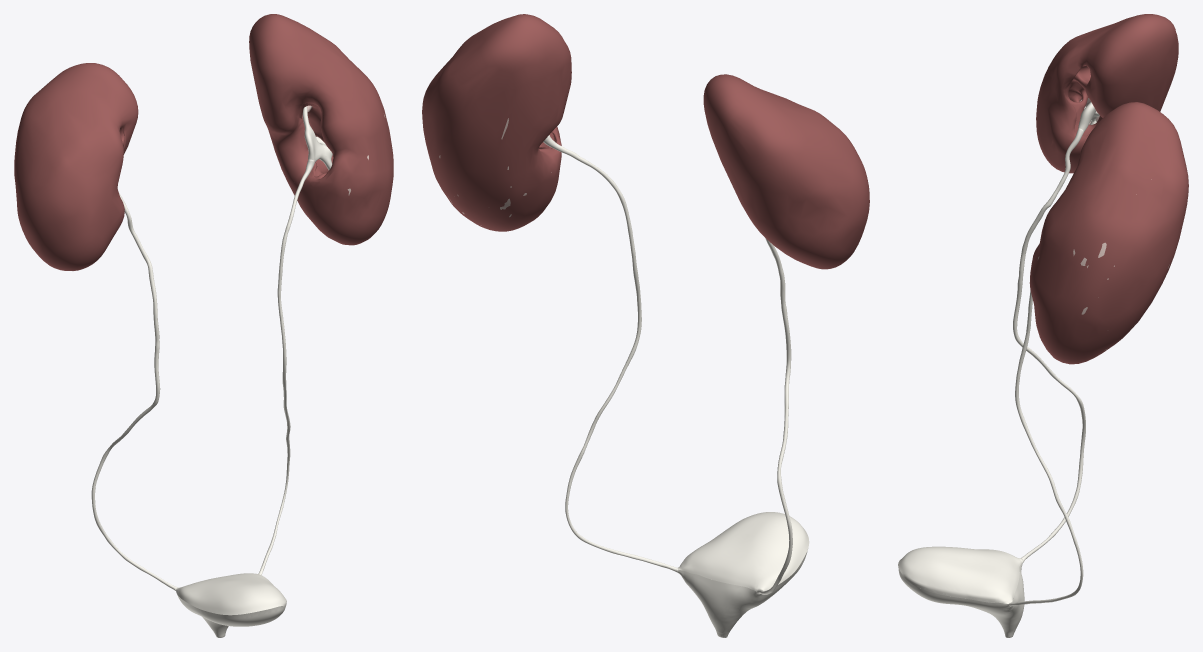
File: urinary.glb
3 renders of one model, left to right at view 1: azimuth 30°, elevation 25°; view 2: azimuth 150°, elevation 25°; view 3: azimuth 270°, elevation 25°, orthographic. The views are drawn at different scales.
Parts seen in each view (by area): view 1: kidney-capsule, kidney-capsule-2, fundus-of-urinary-bladder, right-ureter, f-left-ureter, fundus-of-urinary-bladder-2, hilum-of-kidney, renal-pelvis-2; view 2: kidney-capsule, kidney-capsule-2, fundus-of-urinary-bladder, fundus-of-urinary-bladder-2, f-left-ureter, right-ureter; view 3: kidney-capsule, kidney-capsule-2, fundus-of-urinary-bladder, right-ureter, fundus-of-urinary-bladder-2, f-left-ureter, hilum-of-kidney-2.
Part boxes in pixels (x1=…): kidney-capsule: x1=249, y1=14, x2=393, y2=245; kidney-capsule-2: x1=14, y1=63, x2=138, y2=270; fundus-of-urinary-bladder: x1=176, y1=573, x2=286, y2=615; right-ureter: x1=91, y1=193, x2=177, y2=590; f-left-ureter: x1=258, y1=159, x2=314, y2=575; fundus-of-urinary-bladder-2: x1=177, y1=594, x2=285, y2=633; hilum-of-kidney: x1=299, y1=103, x2=333, y2=178; renal-pelvis-2: x1=303, y1=115, x2=324, y2=162; kidney-capsule: x1=422, y1=14, x2=571, y2=231; kidney-capsule-2: x1=703, y1=74, x2=869, y2=269; fundus-of-urinary-bladder: x1=678, y1=512, x2=809, y2=591; fundus-of-urinary-bladder-2: x1=678, y1=551, x2=807, y2=633; f-left-ureter: x1=543, y1=135, x2=678, y2=572; right-ureter: x1=757, y1=238, x2=792, y2=594; kidney-capsule: x1=1029, y1=102, x2=1188, y2=364; kidney-capsule-2: x1=1036, y1=14, x2=1178, y2=173; fundus-of-urinary-bladder: x1=898, y1=546, x2=1023, y2=603; right-ureter: x1=1013, y1=128, x2=1085, y2=562; fundus-of-urinary-bladder-2: x1=898, y1=562, x2=1024, y2=632; f-left-ureter: x1=1008, y1=290, x2=1083, y2=606; hilum-of-kidney-2: x1=1065, y1=65, x2=1101, y2=136.
Bounding box in the file's own units: 0.2219 × 0.3186 × 0.1418.
